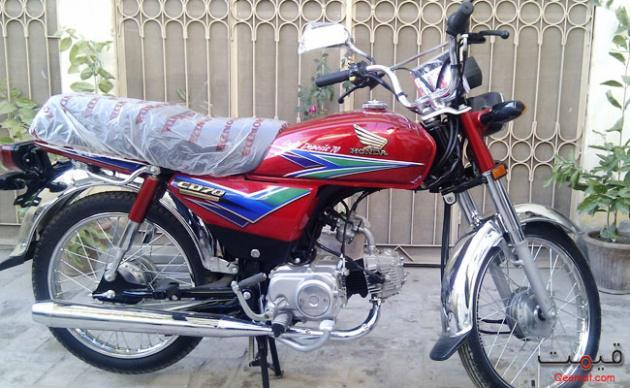bike: (1, 1, 606, 388)
